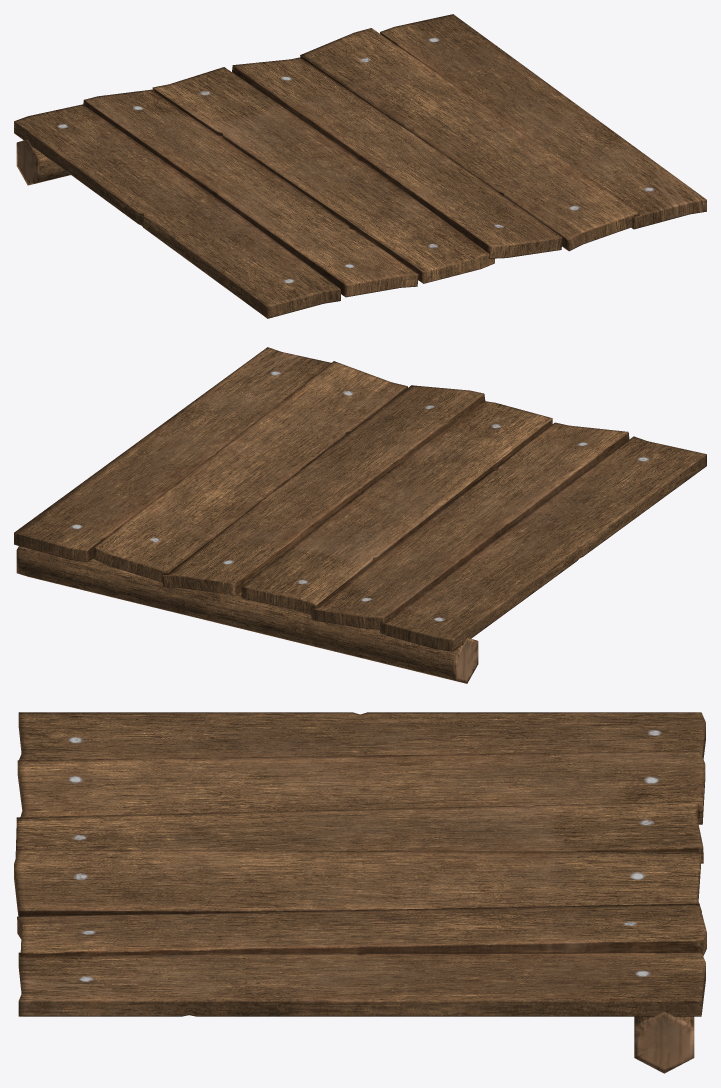
Rendered from planks.gltf.
3 views of the same model, one above another, from view 1: azimuth 30°, elevation 25°; view 2: azimuth 150°, elevation 25°; view 3: azimuth 270°, elevation 25° (orthographic). The views are drawn at different scales.
Visible parts, largest first — view 1: Plane, Plane.001; view 2: Plane, Plane.001; view 3: Plane, Plane.001.
Boxes of the visible parts, x1,y1,x2,y2 form: Plane: (14,14,706,318); Plane.001: (16,139,70,185); Plane: (14,347,706,651); Plane.001: (16,546,478,683); Plane: (14,712,706,1016); Plane.001: (634,1011,694,1073).
Bounding box in the file's own units: 2 × 0.2624 × 2.03.
1 material, 1 textured.
